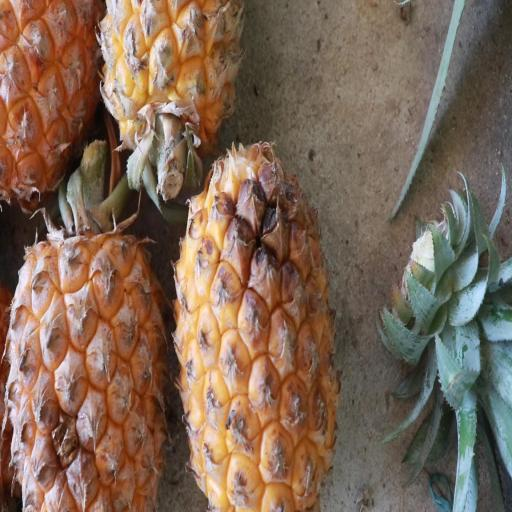Pineapple - v8 v1: (170, 125, 338, 510), (7, 189, 170, 512), (98, 0, 241, 162), (0, 0, 109, 201)
